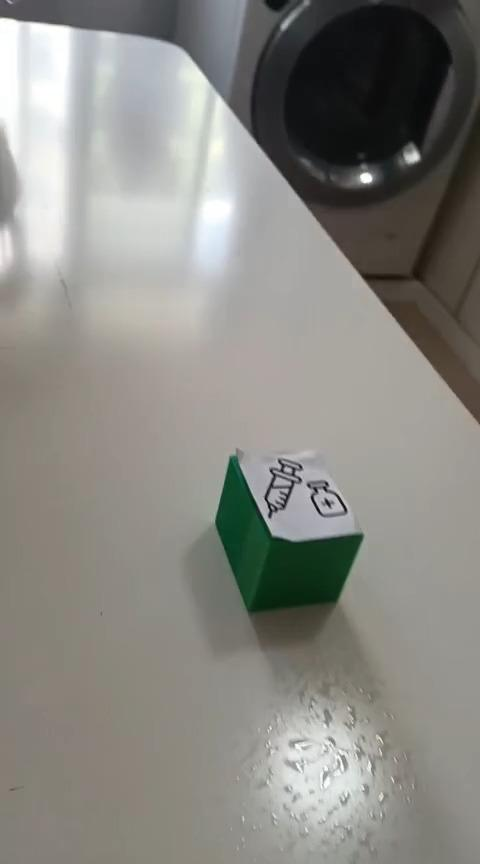antiseptic cream: (213, 444, 364, 613)
